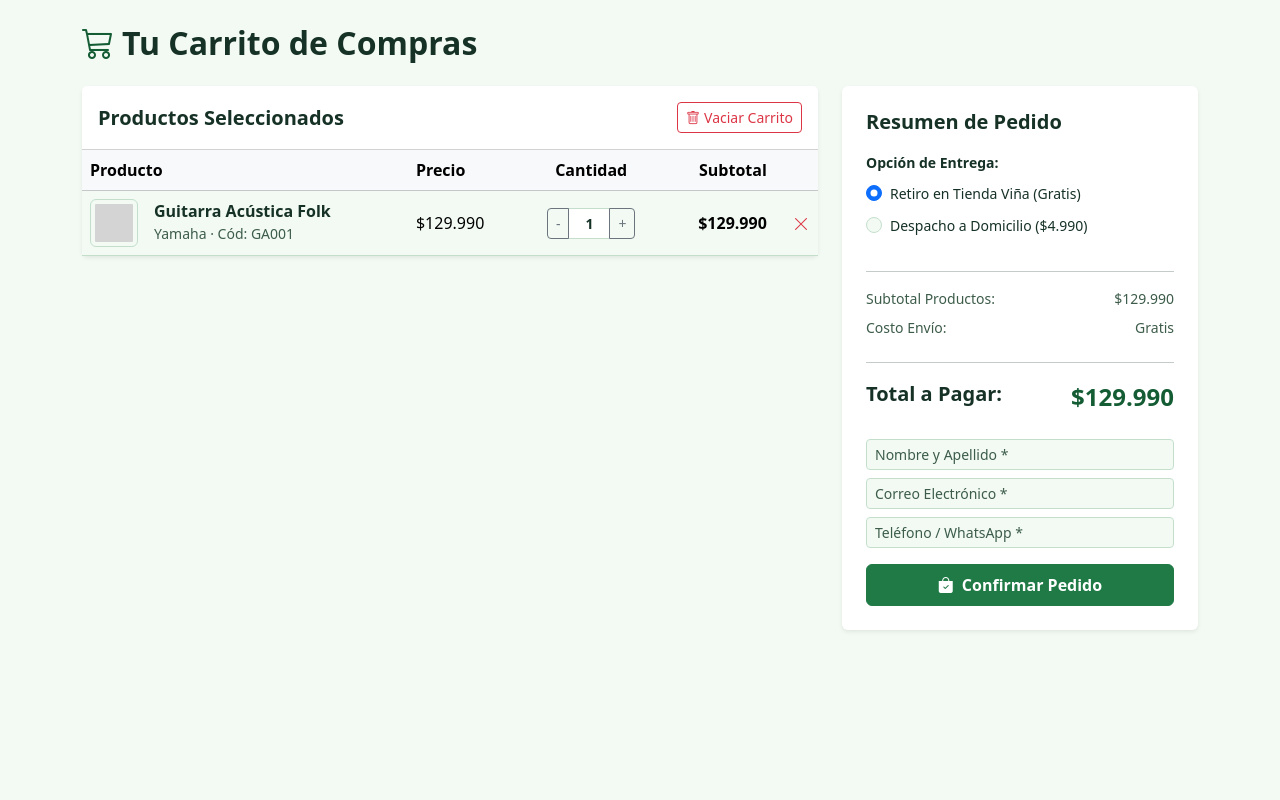
it: Carrito › al confirmar el pedido previene el envío y vacía el carrito
In the field with placeholder "Nombre y Apellido *": (1020, 455) [866,439,1174,470], type "Ana Pérez"
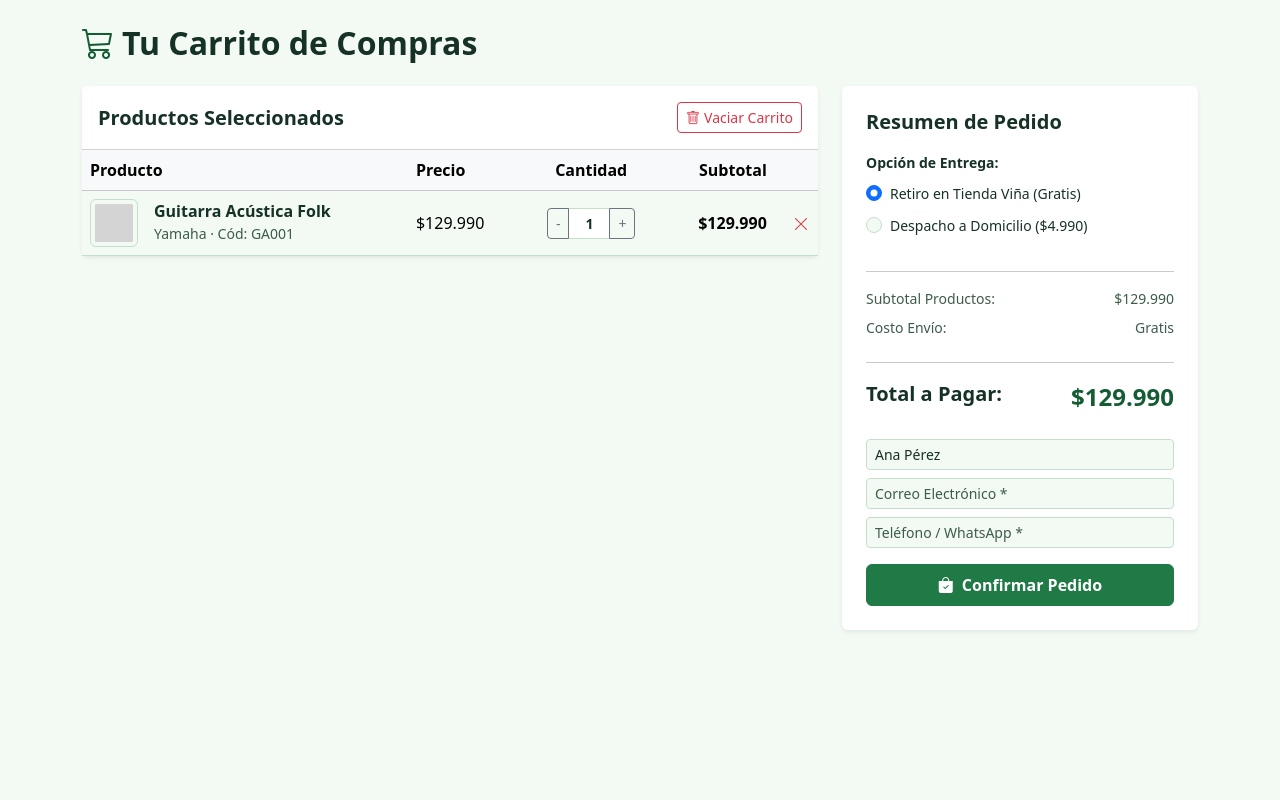
In the field with placeholder "Correo Electrónico *": (1020, 494) [866,478,1174,509], type "ana@duoc.cl"
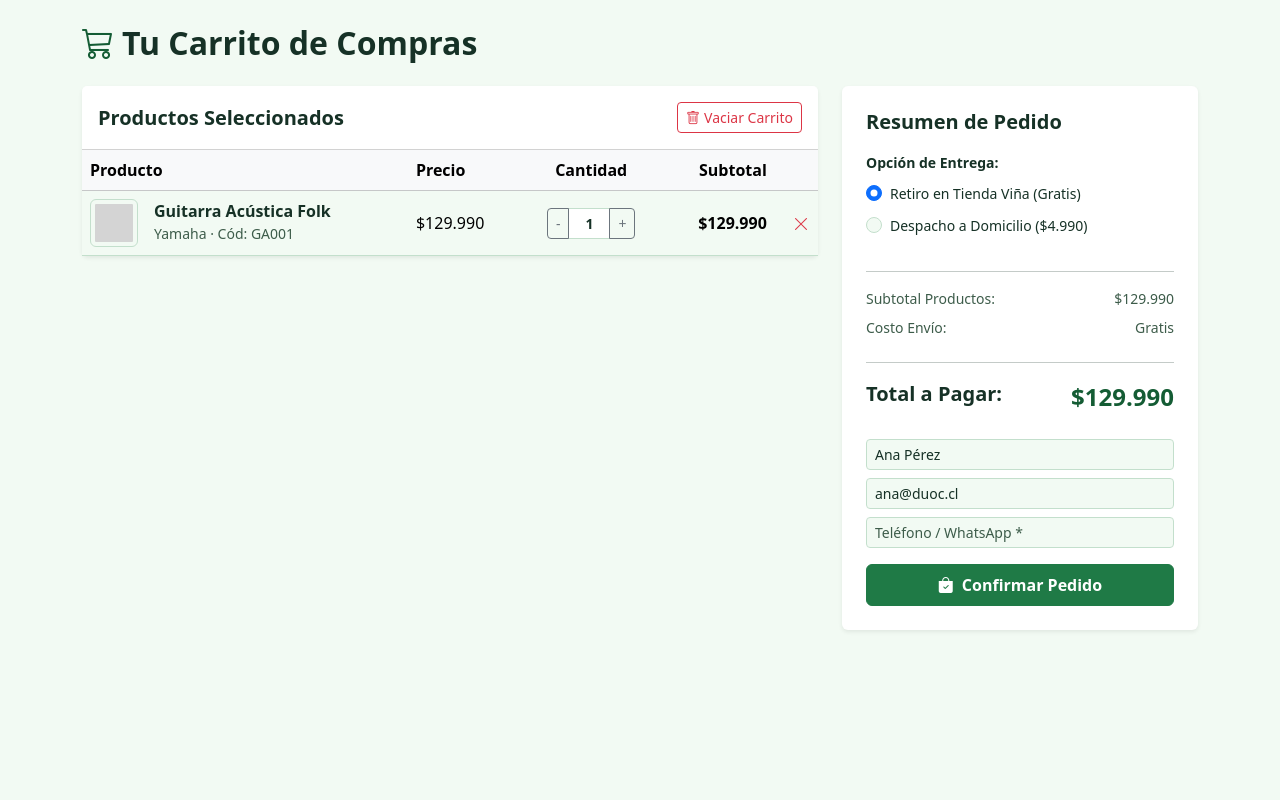
In the field with placeholder "Teléfono / WhatsApp *": (1020, 533) [866,517,1174,548], type "912345678"
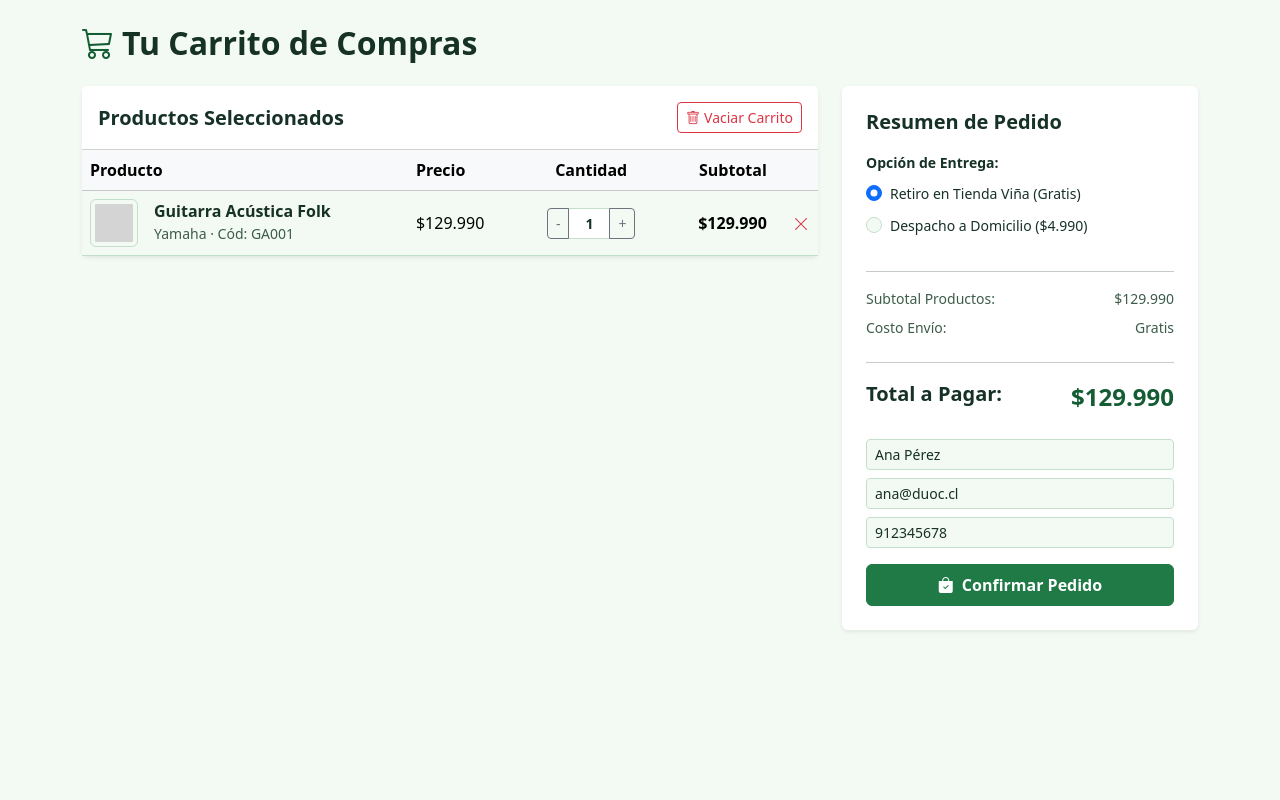
Click the button "Confirmar Pedido": (1020, 585) [866,564,1174,606]
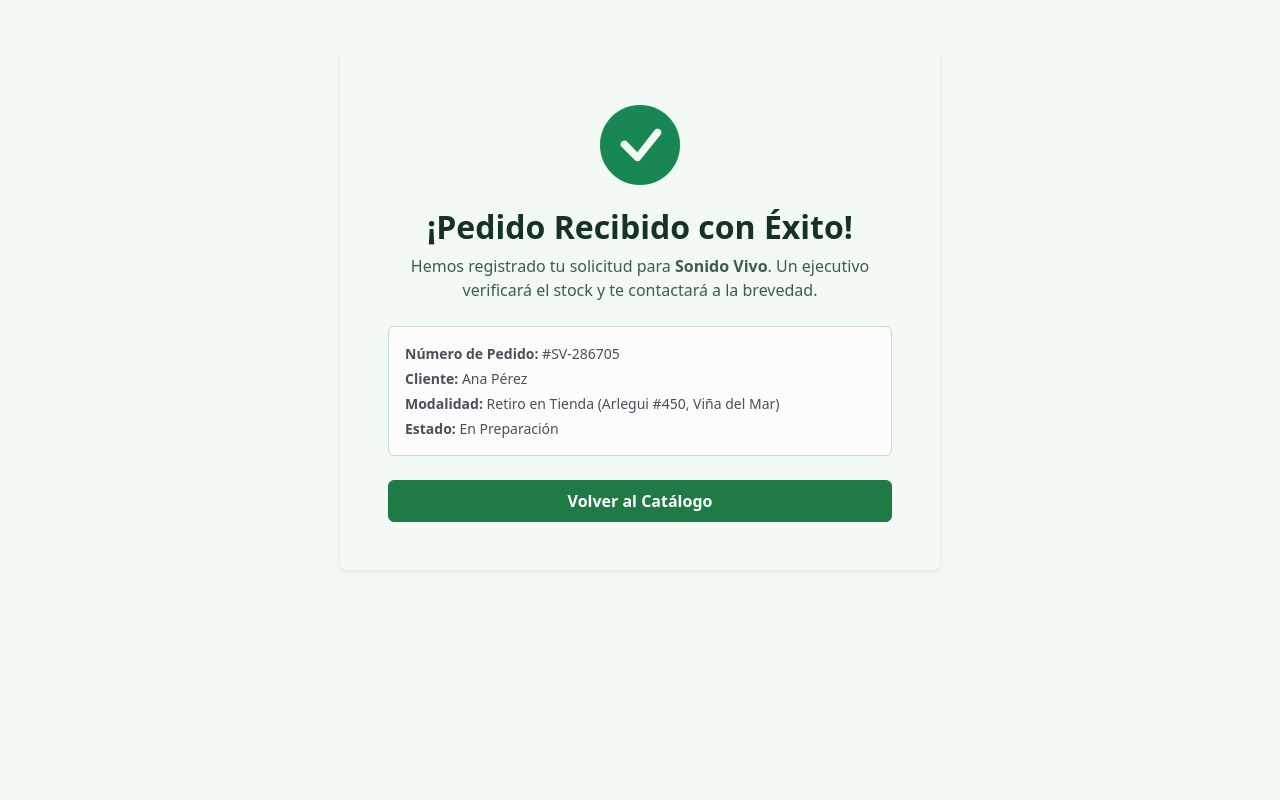
Check: the heading "¡Pedido Recibido con Éxito!" is shown, box [427,205,853,248]
